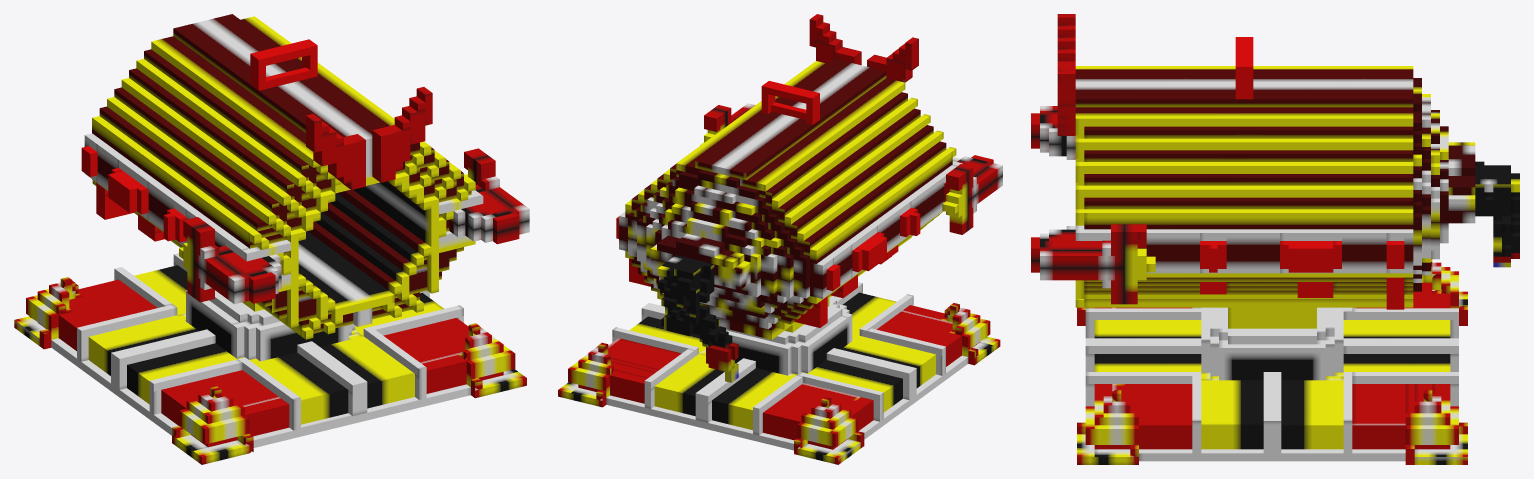
File: Cañon.dae
The picture shows the model from 3 angles, left to right: view 1: azimuth 30°, elevation 25°; view 2: azimuth 150°, elevation 25°; view 3: azimuth 270°, elevation 25°; orthographic projection. The views are drawn at different scales.
Parts seen in each view (by area): view 1: Node-local, Node (1)-local; view 2: Node-local, Node (1)-local; view 3: Node-local, Node (1)-local.
Part boxes in pixels (x1=…): Node-local: x1=81, y1=14, x2=529, y2=339; Node (1)-local: x1=14, y1=253, x2=526, y2=464; Node-local: x1=616, y1=14, x2=1002, y2=382; Node (1)-local: x1=558, y1=282, x2=1000, y2=464; Node-local: x1=1031, y1=14, x2=1519, y2=309; Node (1)-local: x1=1077, y1=259, x2=1467, y2=464.
Bounding box in the file's own units: 44 × 42 × 55.
2 materials, 2 textured.
